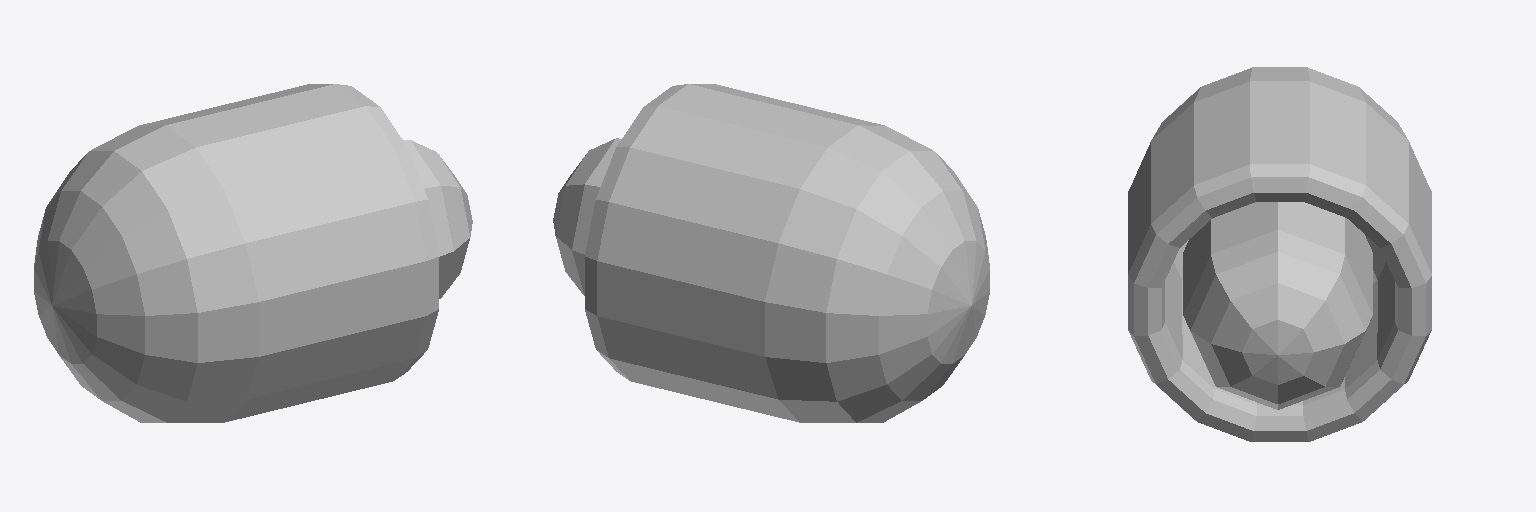
File: hombroDer.obj
The picture shows the model from 3 angles: view 1: azimuth 30°, elevation 25°; view 2: azimuth 150°, elevation 25°; view 3: azimuth 270°, elevation 25°; orthographic projection.
Visible parts, largest first — view 1: BalloonBoy.003; view 2: BalloonBoy.003; view 3: BalloonBoy.003.
Boxes of the visible parts, box(x1,y1,x2,y2) form: BalloonBoy.003: box(34, 84, 472, 422); BalloonBoy.003: box(553, 84, 989, 422); BalloonBoy.003: box(1128, 67, 1431, 441).
Size of the model in its own units: 8.57 by 5.54 by 5.54.